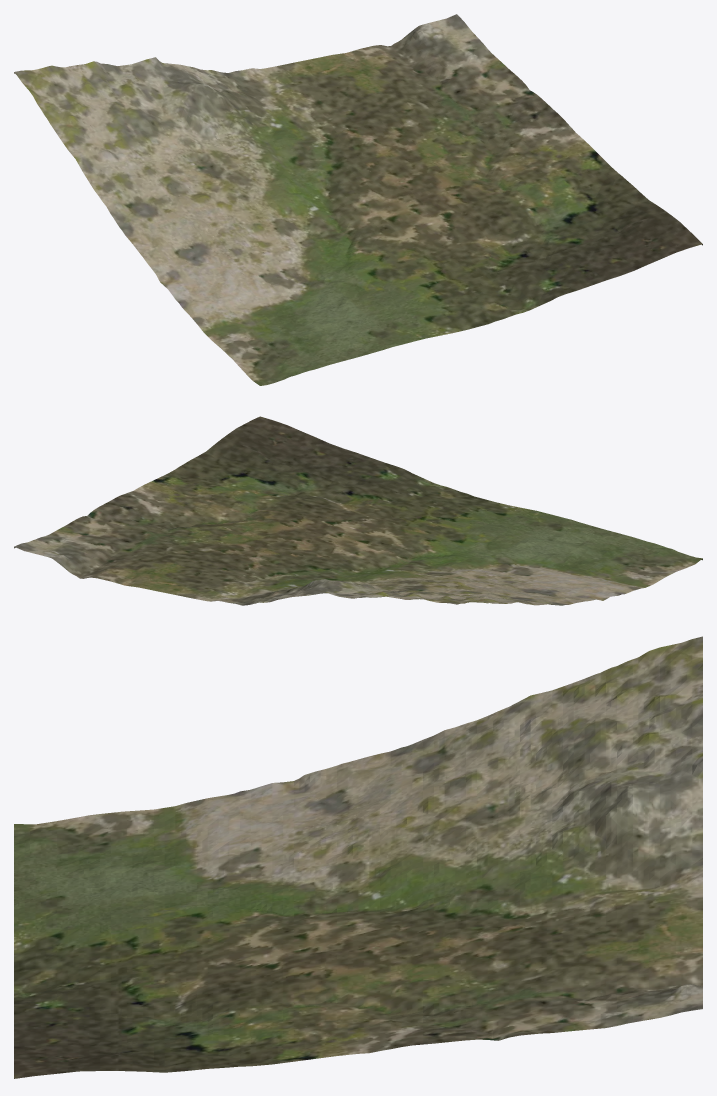
3 renders of one model, top to bottom at view 1: azimuth 30°, elevation 25°; view 2: azimuth 150°, elevation 25°; view 3: azimuth 270°, elevation 25°, orthographic. The views are drawn at different scales.
Size of the model in its own units: 250 by 73.65 by 241.
1 material, 1 textured.
